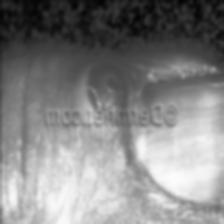Toxin: (80, 58, 136, 108)
